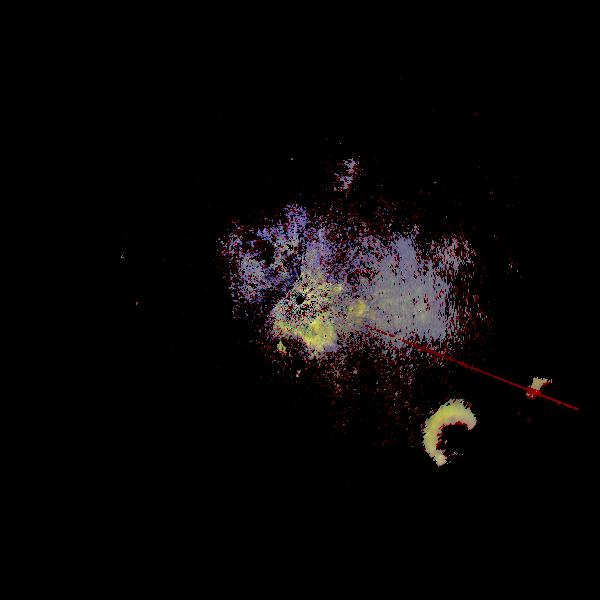roost: (415, 390, 514, 489), (245, 316, 329, 400), (519, 369, 585, 435)
